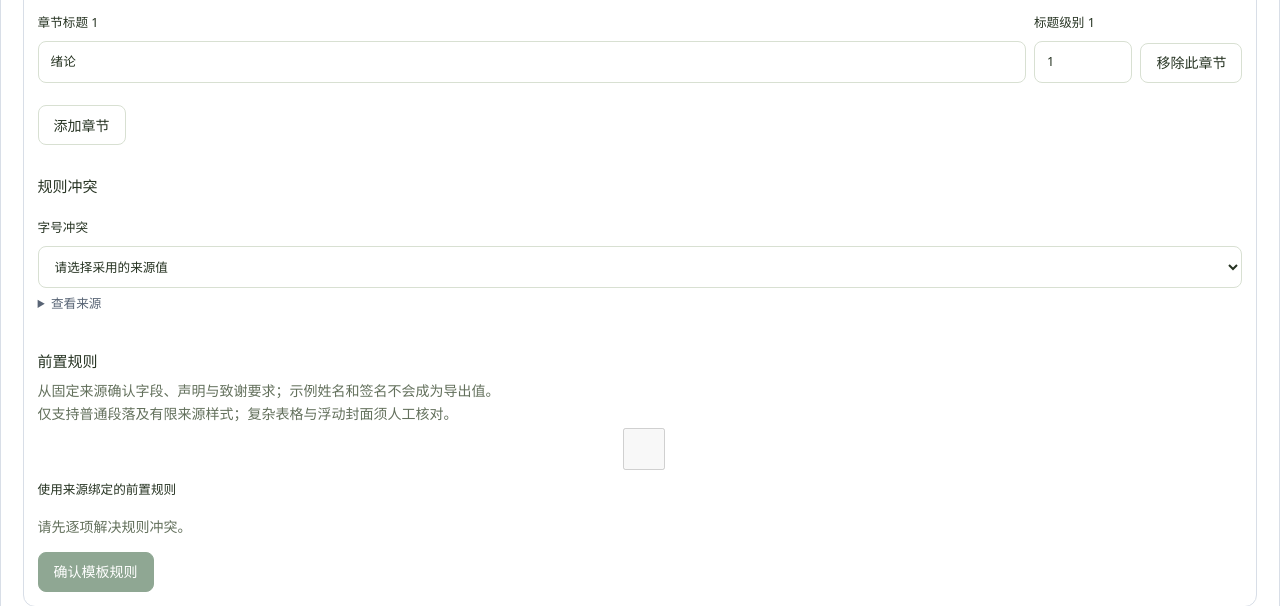
Test: guards hidden confirmation drafts and releases the pending guard after a failed request
(page scrolled)
Check: the field showing "绪论" is shown, box [38,41,1026,83]
Select "小四 · 小四" in the dropdown labelled "字号冲突": (640, 267) [38,246,1242,288]
(page scrolled)
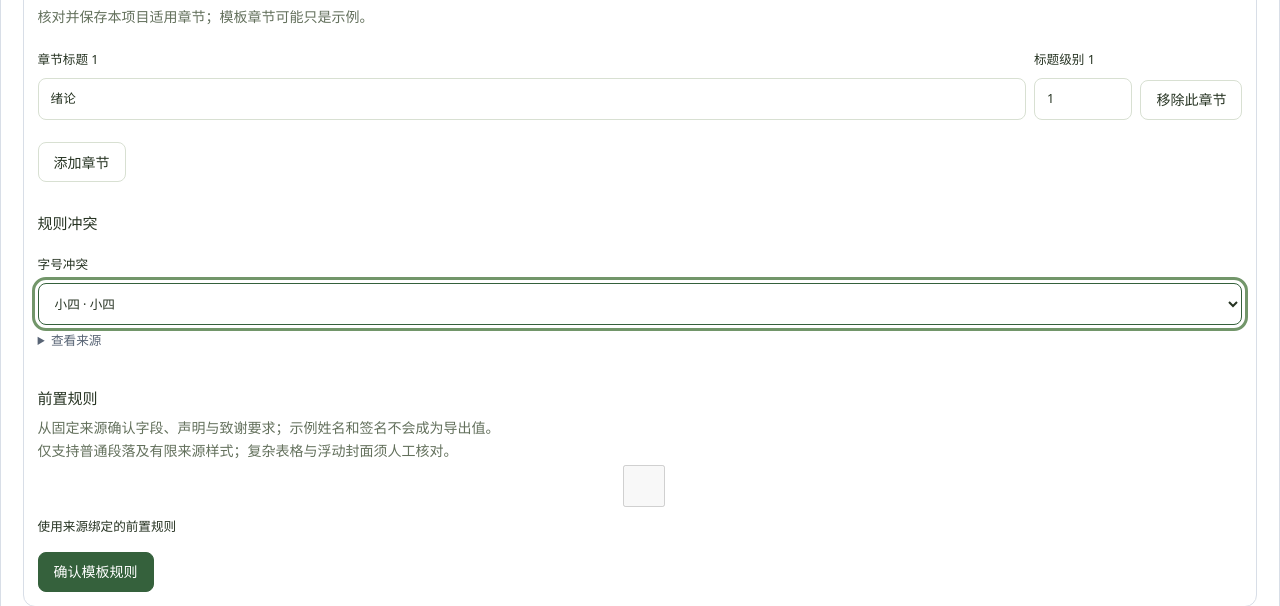
Click the button "确认模板规则": (96, 572) [38,552,154,592]
(page scrolled)
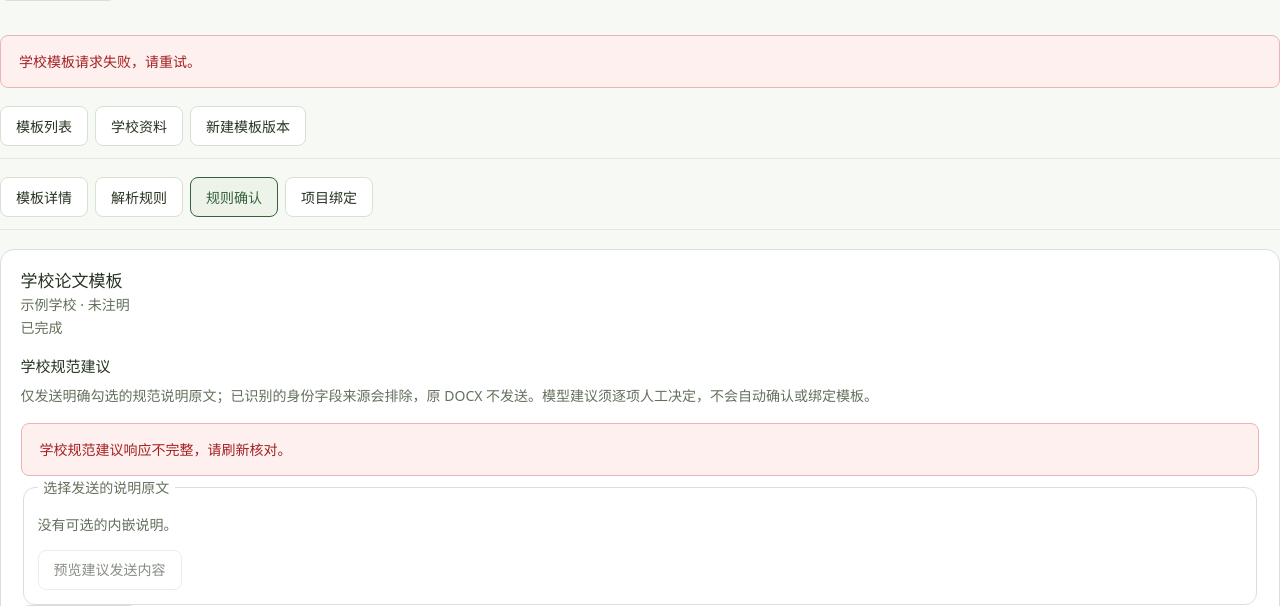
Check: the message "学校模板请求失败，请重试。" is shown, box [0,35,1279,88]
